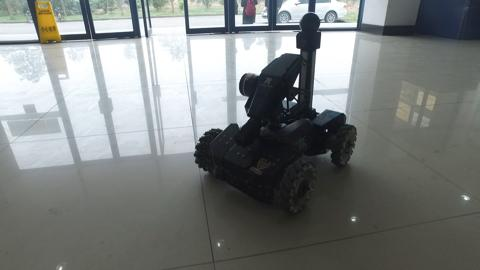car: (259, 1, 351, 24)
chariot: (193, 10, 358, 217)
